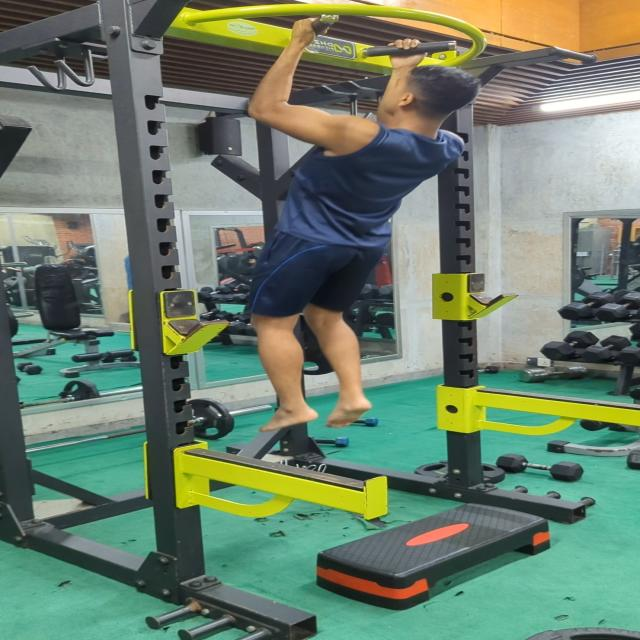Normal_PullUps: (244, 14, 479, 436)
